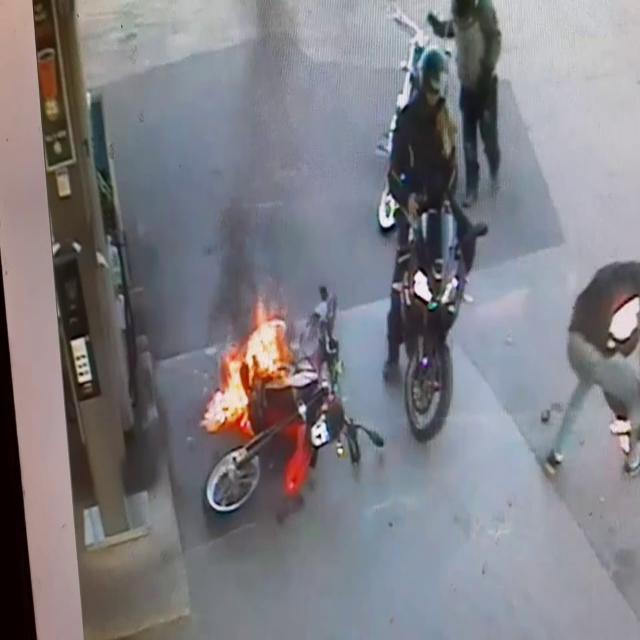Fire: (201, 302, 299, 430)
Smoke: (205, 4, 312, 320)
